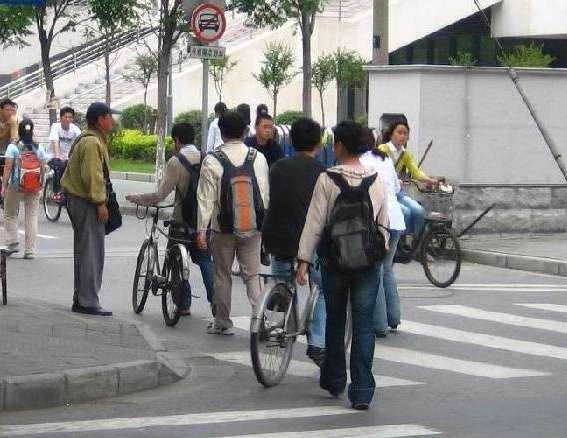person: (317, 116, 381, 411), (57, 98, 123, 322), (200, 114, 260, 340), (126, 120, 200, 251), (0, 115, 48, 261), (382, 115, 425, 263)
